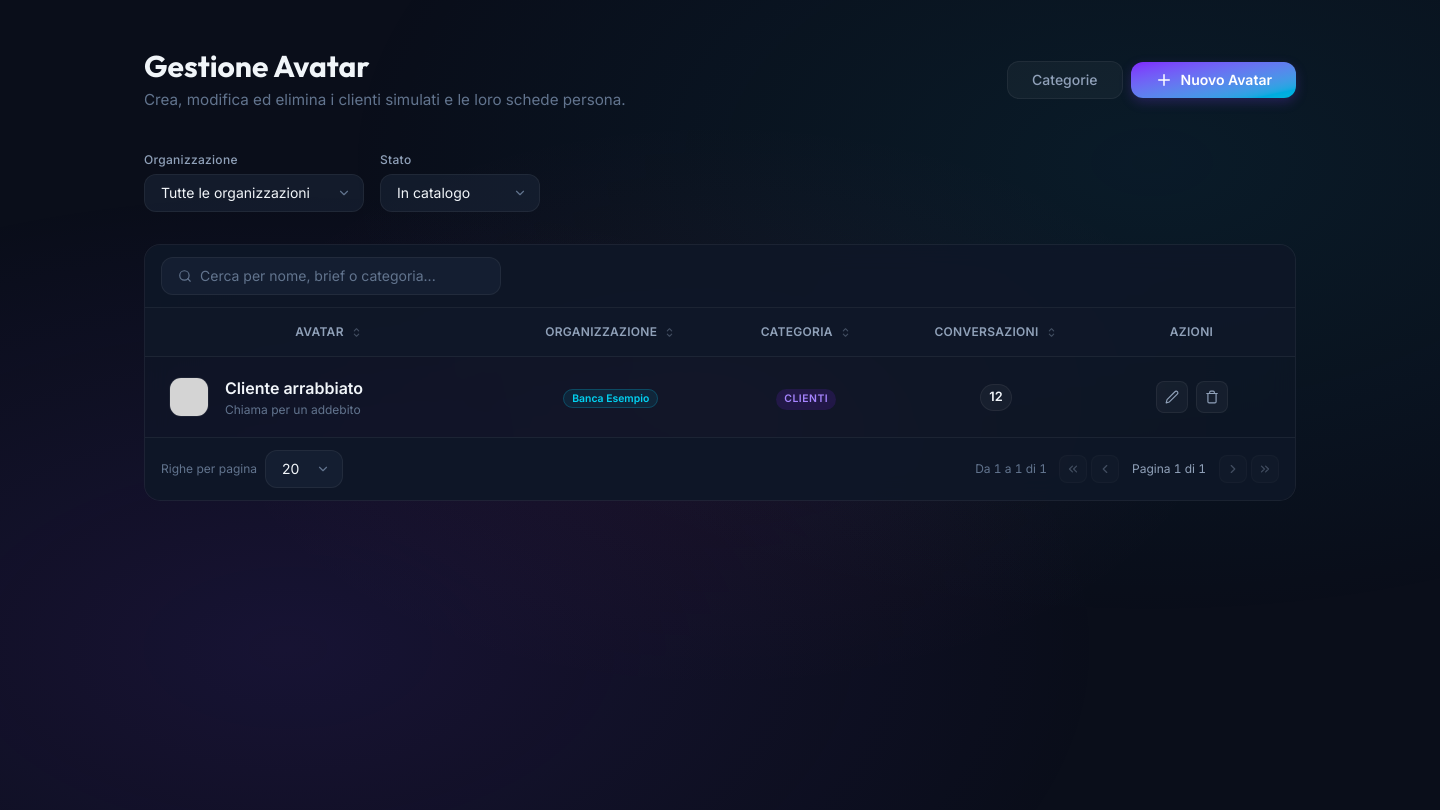
Test case: catalogo › conta gli archiviati sulla voce del filtro
Click the dropdown named "Stato": (460, 193) left=380, top=174, right=540, bottom=212
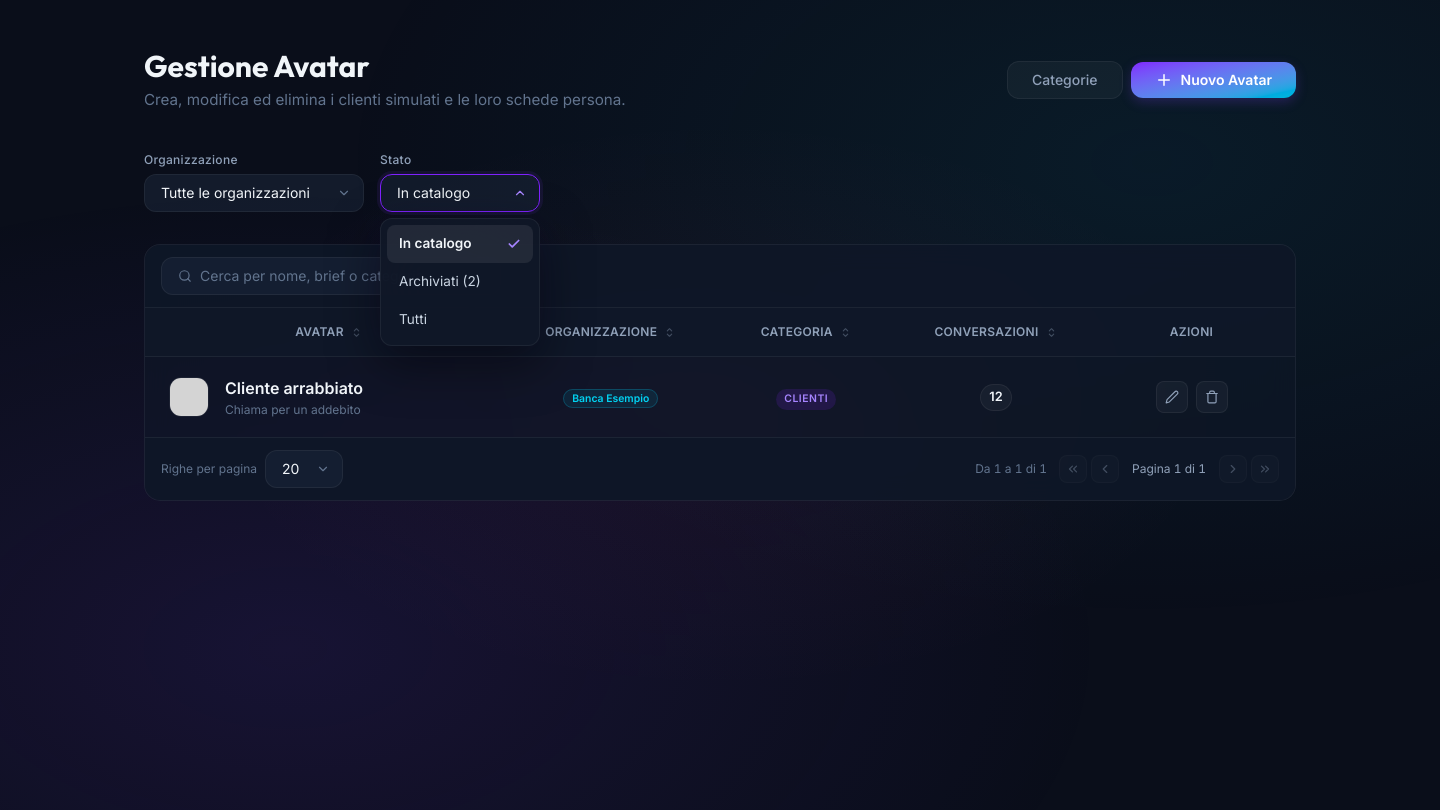
expect the option "Archiviati (2)" is shown: met, box left=399, top=273, right=481, bottom=289
